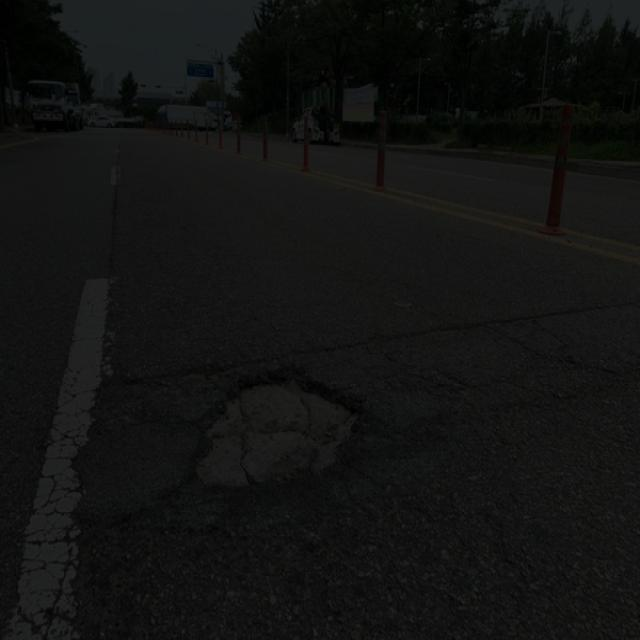pothole: (182, 356, 393, 496)
